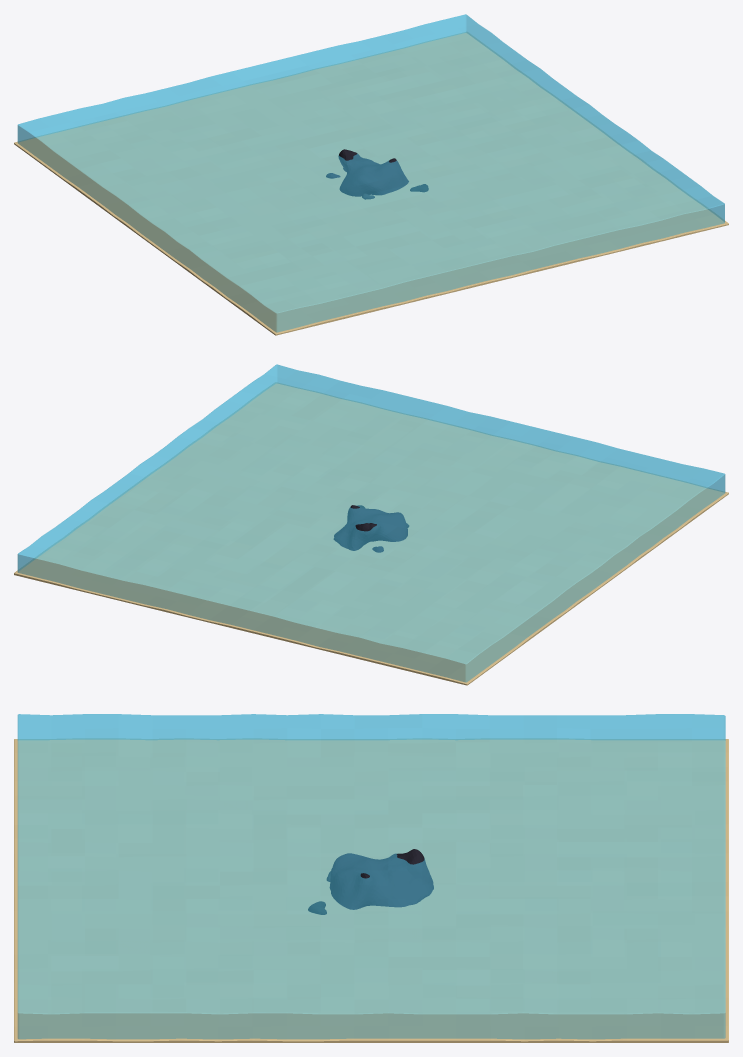
Rendered from mar.glb.
3 views of the same model, one above another, from view 1: azimuth 30°, elevation 25°; view 2: azimuth 150°, elevation 25°; view 3: azimuth 270°, elevation 25° (orthographic). The views are drawn at different scales.
Parts seen in each view (by area): view 1: sea, sand, rock1; view 2: sea, sand, rock1; view 3: sea, sand, rock1.
Part boxes in pixels (left/top/right/bottom): sea: left=17, top=14, right=724, bottom=332; sand: left=14, top=32, right=728, bottom=335; rock1: left=326, top=149, right=428, bottom=199; sea: left=17, top=364, right=725, bottom=682; sand: left=14, top=382, right=728, bottom=685; rock1: left=333, top=505, right=408, bottom=552; sea: left=17, top=714, right=725, bottom=1039; sand: left=14, top=738, right=728, bottom=1042; rock1: left=308, top=849, right=433, bottom=914.
Bounding box in the file's own units: 92.81 × 5.02 × 92.81.
Materials: 3 (1 with a texture image).
